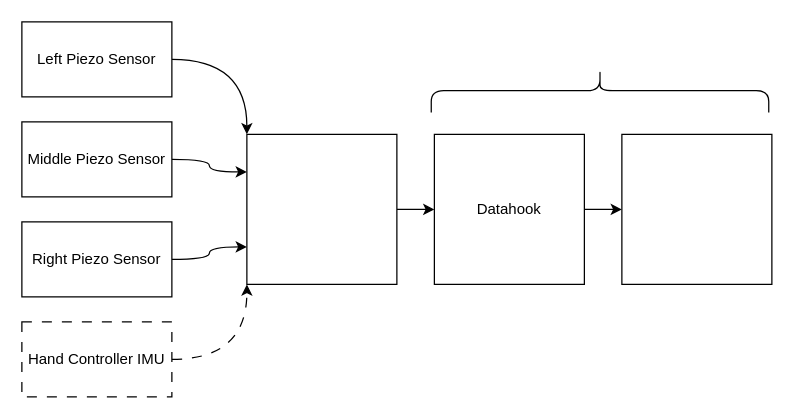
This 794x419 diagram has some shape labels left out. Here are the shapes that lost their labels. From the top down, the centre of each, then its label:
At [599,90]: "Unity".
At [321,208]: "ESP32".
At [696,208]: "Videogame".
